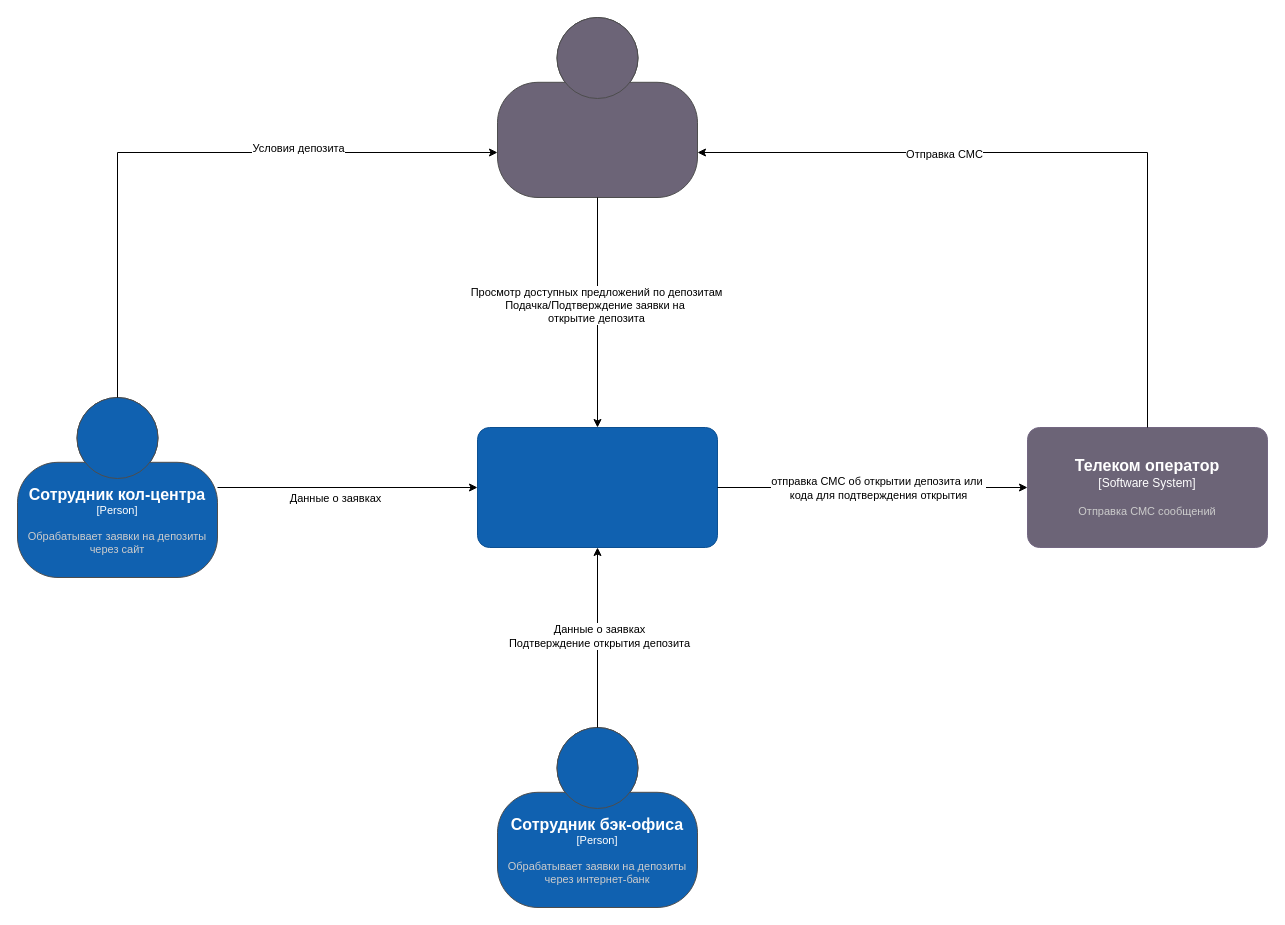
The diagram is 1285 pixels wide and 925 high, and some of its shapes have lost their labels. The shapes that lost their labels are listed below. From the top down, each one's centre as x and y in pixels, then its label:
At (x=597, y=107): "Клиент банка [Person] Новый или существующий".
At (x=597, y=487): "Система Банка [Software System] АБС, сайт, Интернет-банк идр".
